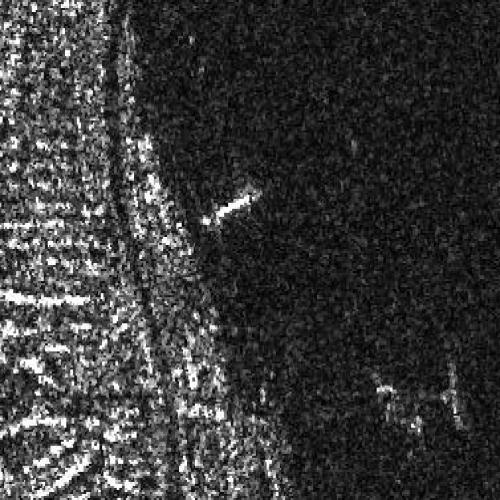ship: (200, 187, 265, 233)
